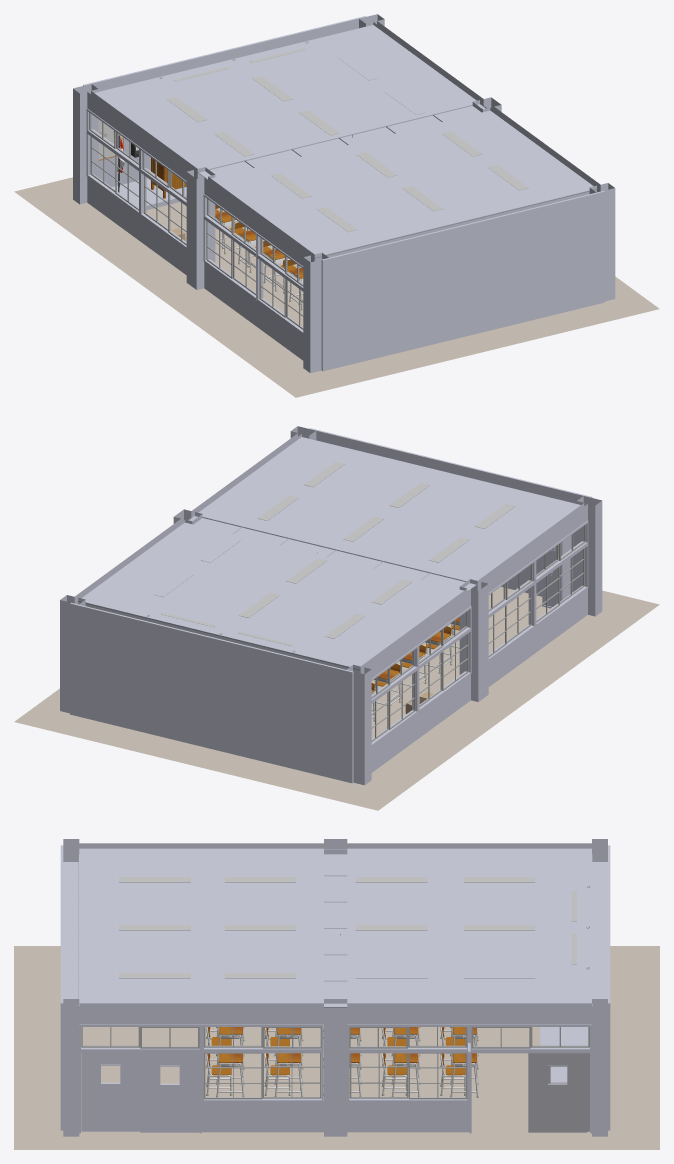
File: gltf_modified.gltf
3 renders of one model, top to bottom at view 1: azimuth 30°, elevation 25°; view 2: azimuth 150°, elevation 25°; view 3: azimuth 270°, elevation 25°, orthographic. The views are drawn at different scales.
Parts seen in each view (by area): view 1: Mesh042, Mesh035, Mesh068, Mesh062, Mesh064, Mesh036; view 2: Mesh042, Mesh035, Mesh062, Mesh068, Mesh040, Mesh064, Mesh036; view 3: Mesh042, Mesh035, Mesh062, Mesh068, Mesh019, Mesh064, Mesh024, Mesh069, Mesh036.
Boxes of the visible parts, x1=… form: Mesh042: x1=73, y1=14, x2=615, y2=373; Mesh035: x1=14, y1=177, x2=659, y2=397; Mesh068: x1=89, y1=112, x2=303, y2=329; Mesh062: x1=166, y1=48, x2=528, y2=232; Mesh064: x1=215, y1=209, x2=303, y2=308; Mesh036: x1=337, y1=55, x2=425, y2=114; Mesh042: x1=60, y1=426, x2=602, y2=785; Mesh035: x1=14, y1=587, x2=659, y2=810; Mesh062: x1=161, y1=461, x2=515, y2=645; Mesh068: x1=371, y1=524, x2=585, y2=741; Mesh040: x1=542, y1=535, x2=572, y2=608; Mesh064: x1=371, y1=621, x2=459, y2=719; Mesh036: x1=153, y1=537, x2=241, y2=597; Mesh042: x1=60, y1=839, x2=610, y2=1136; Mesh035: x1=14, y1=946, x2=659, y2=1149; Mesh062: x1=119, y1=877, x2=576, y2=978; Mesh068: x1=81, y1=1027, x2=589, y2=1099; Mesh019: x1=528, y1=1053, x2=589, y2=1132; Mesh064: x1=206, y1=1025, x2=478, y2=1095; Mesh024: x1=219, y1=1027, x2=476, y2=1062; Mesh069: x1=211, y1=1037, x2=465, y2=1075; Mesh036: x1=355, y1=972, x2=535, y2=978.
Size of the model in its own units: 10.49 by 3.07 by 14.06.
Materials: 43 (3 with a texture image).
